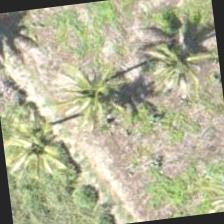Kelapa_Sawit: (54, 44, 154, 144), (128, 1, 221, 102), (0, 98, 74, 196), (172, 159, 223, 217)
